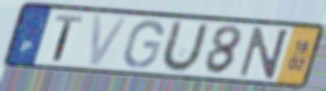8: (203, 24, 244, 77)
G: (121, 18, 166, 70)
N: (236, 25, 292, 80)
T: (52, 13, 85, 63)
U: (157, 18, 212, 74)
V: (88, 13, 131, 68)
